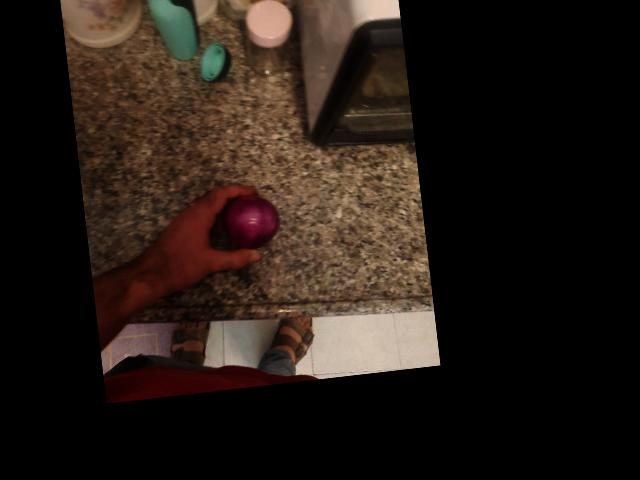onion: (328, 68, 388, 129)
